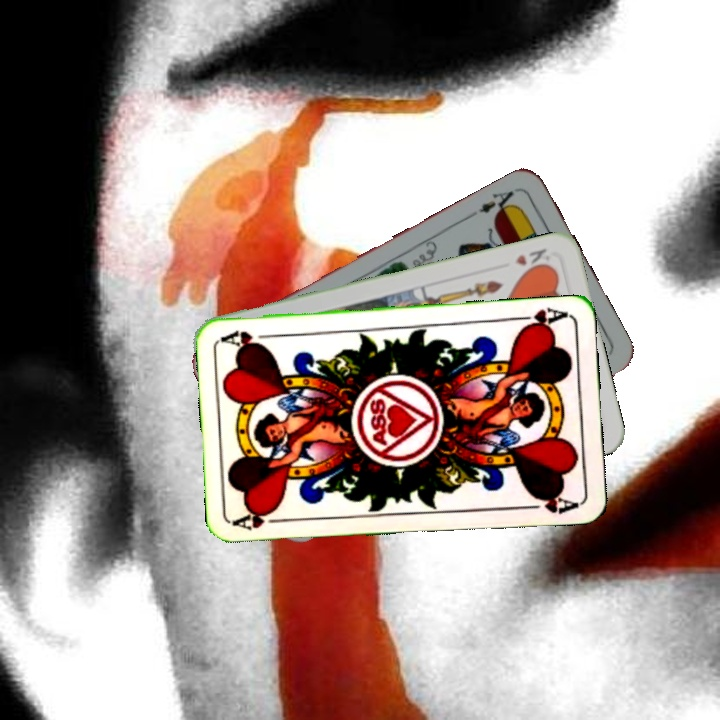EA: (475, 186, 519, 221)
HA: (510, 304, 569, 333), (231, 506, 290, 533)
HK: (510, 244, 553, 275)
